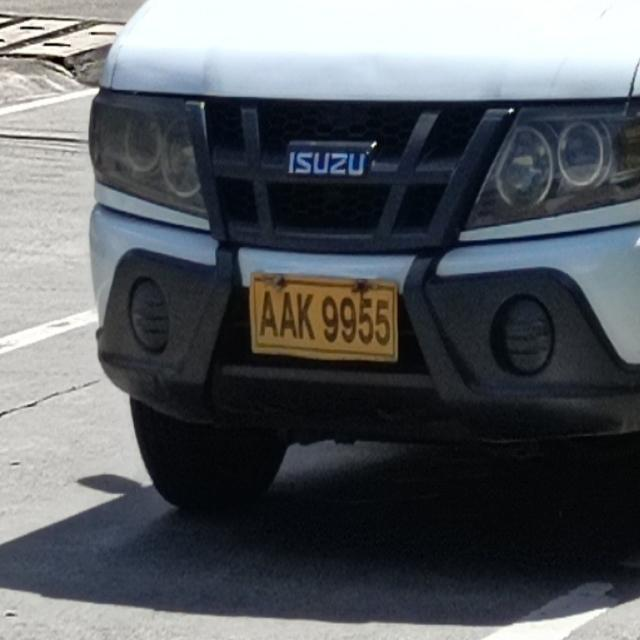LicensePlate: (239, 266, 407, 369)
